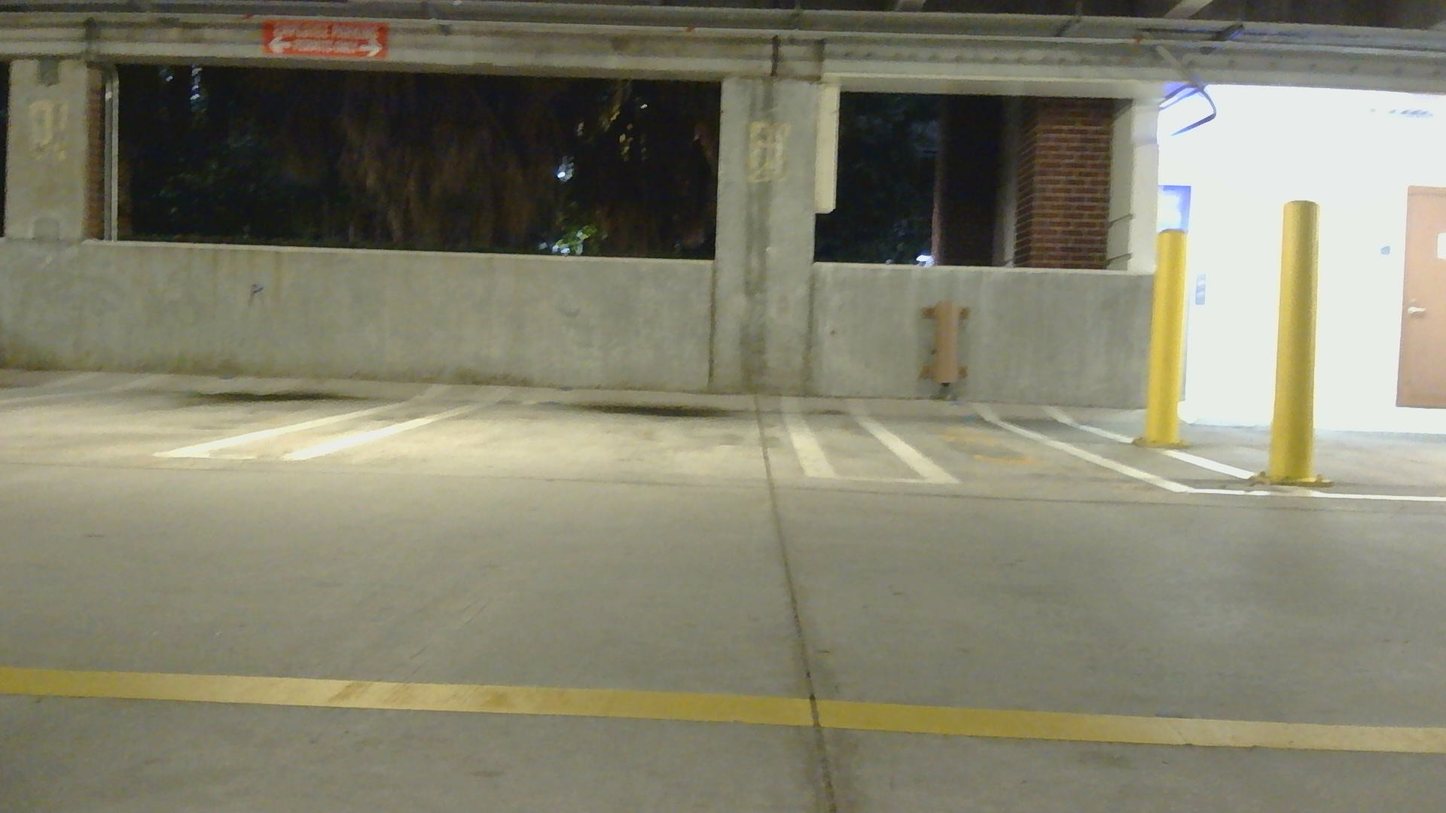empty_spot: (244, 303, 870, 480), (0, 307, 447, 464), (820, 321, 1231, 489)
